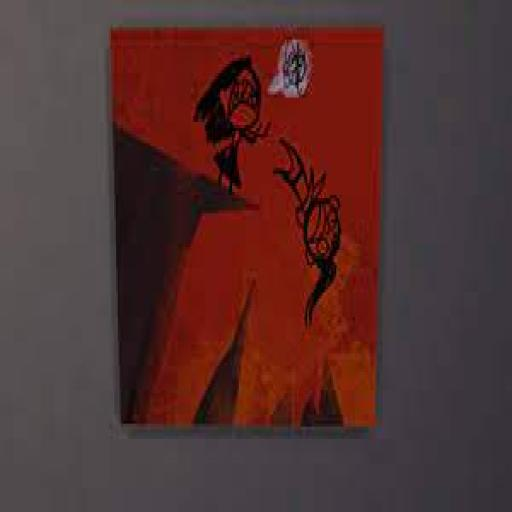person: (187, 49, 271, 210), (274, 138, 341, 326)
